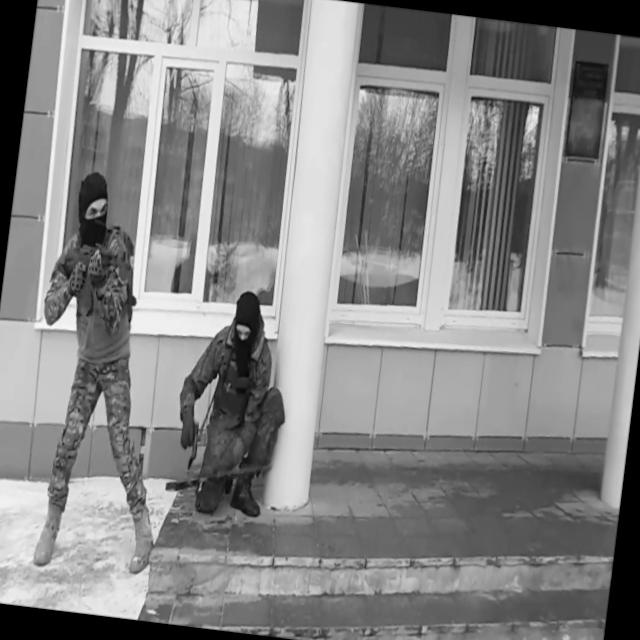gun: (57, 239, 133, 322), (164, 451, 272, 504), (178, 420, 200, 460)
person with a gun: (11, 166, 198, 580), (162, 283, 300, 522)
